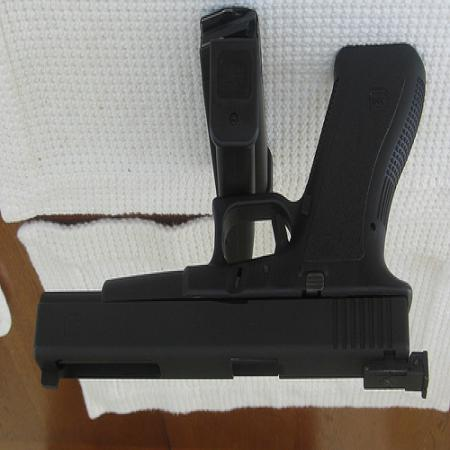Pistol: (34, 42, 428, 400)
